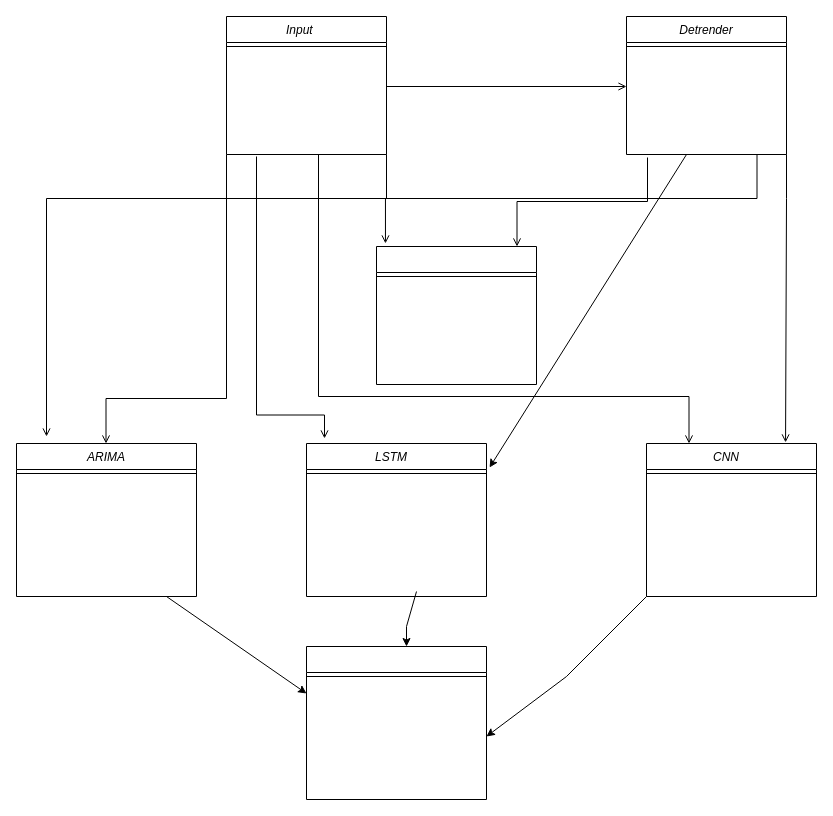
Some shapes in this 833 by 816 pixel diagram are drawn without their labels. The shapes that lost their labels are listed below. From the top down, each one's centre as x and y in pixels, then its label:
At (456,315): "Time Series Analysis".
At (396,723): "Forecaster".
